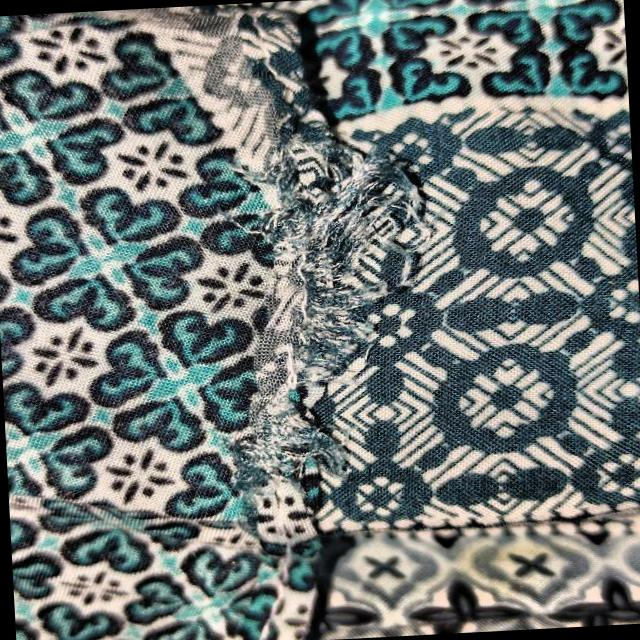gray stitch: (216, 104, 460, 568)
